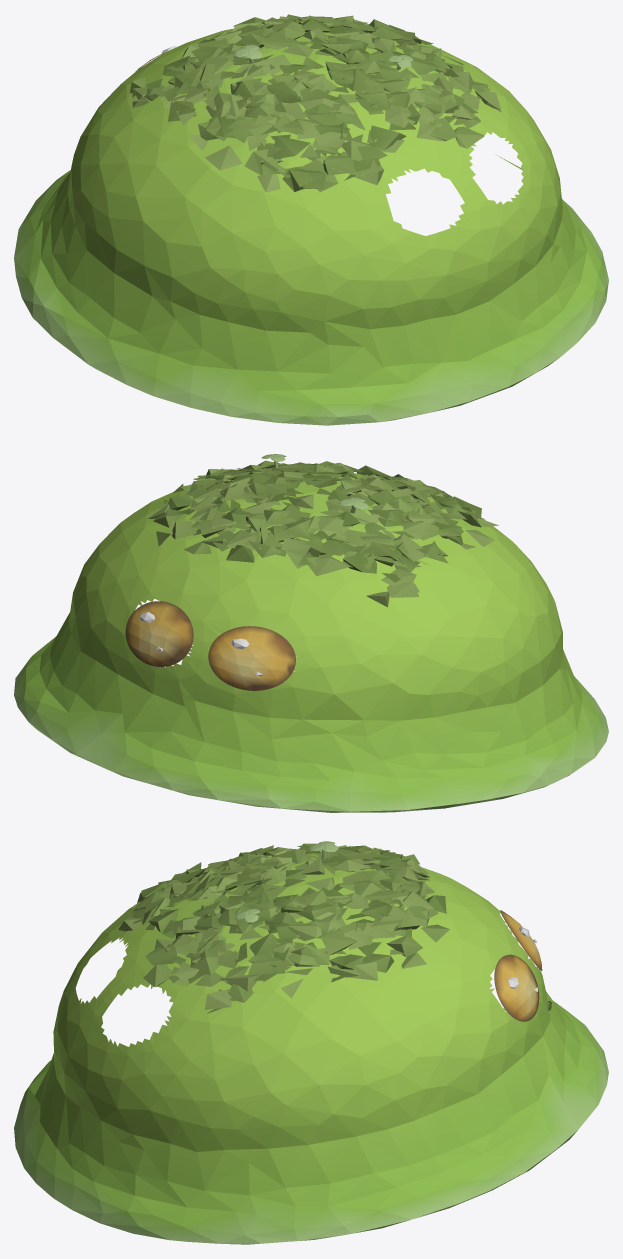
Rendered from baby_slime_roblox.glb.
The picture shows the model from 3 angles, top to bottom: view 1: azimuth 30°, elevation 25°; view 2: azimuth 150°, elevation 25°; view 3: azimuth 270°, elevation 25°; orthographic projection. The views are drawn at different scales.
Parts seen in each view (by area): view 1: Body, Decor; view 2: Body, Decor, Eyes; view 3: Body, Decor, Eyes.
Part boxes in pixels (left/top/right/bottom): Body: left=14, top=28, right=608, bottom=425; Decor: left=130, top=14, right=501, bottom=192; Body: left=14, top=470, right=608, bottom=812; Decor: left=140, top=454, right=499, bottom=699; Eyes: left=125, top=601, right=295, bottom=690; Body: left=14, top=853, right=608, bottom=1244; Decor: left=118, top=841, right=551, bottom=1013; Eyes: left=494, top=910, right=542, bottom=1021.
Size of the model in its own units: 1.27 by 0.6177 by 1.22.
